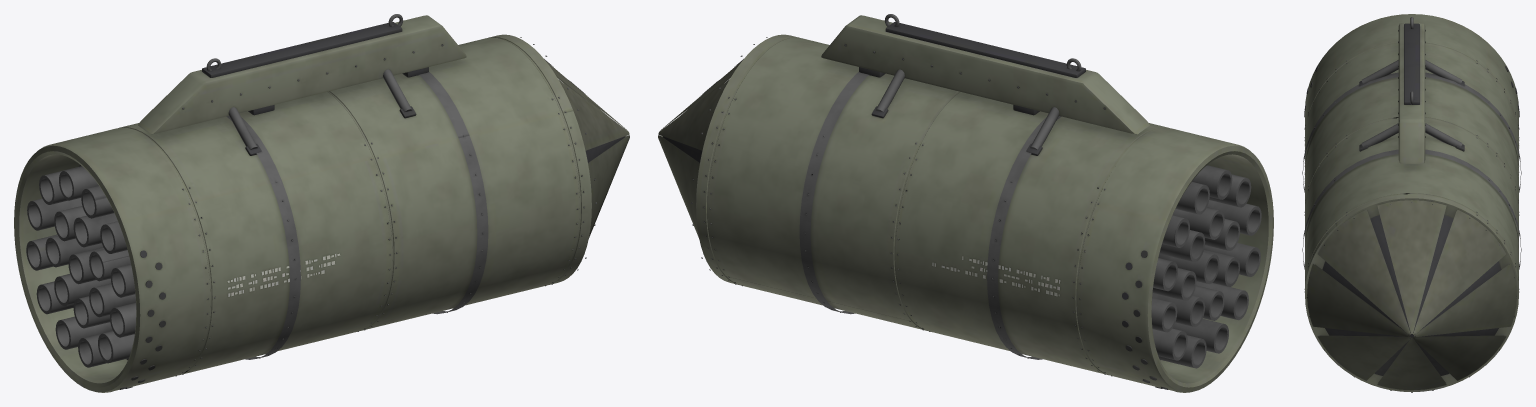
Rendered from rockets_3.glb.
3 views of the same model, side by side, from view 1: azimuth 30°, elevation 25°; view 2: azimuth 150°, elevation 25°; view 3: azimuth 270°, elevation 25° (orthographic). The views are drawn at different scales.
Parts seen in each view (by area): view 1: rockets_3; view 2: rockets_3; view 3: rockets_3.
Part boxes in pixels (x1,y1,x2,y2): rockets_3: (14, 14, 629, 392); rockets_3: (658, 14, 1273, 392); rockets_3: (1302, 14, 1521, 392).
Size of the model in its own units: 1 by 0.523 by 0.4094.
Materials: 5 (5 with a texture image).
